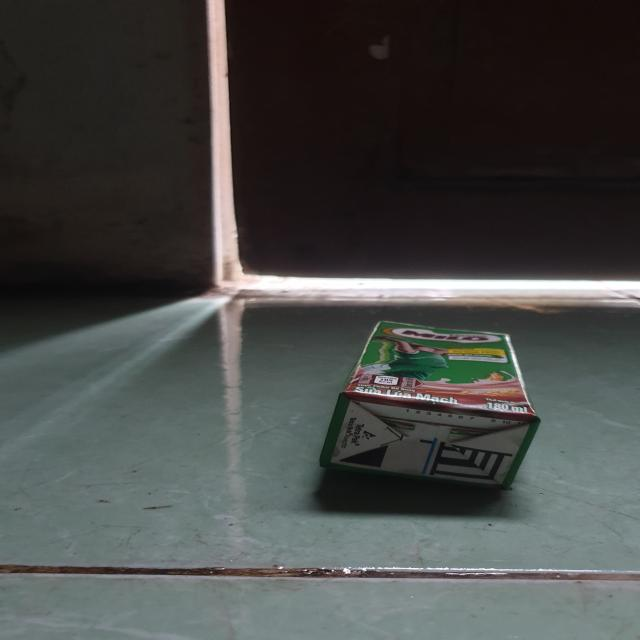Milo: (318, 321, 546, 494)
